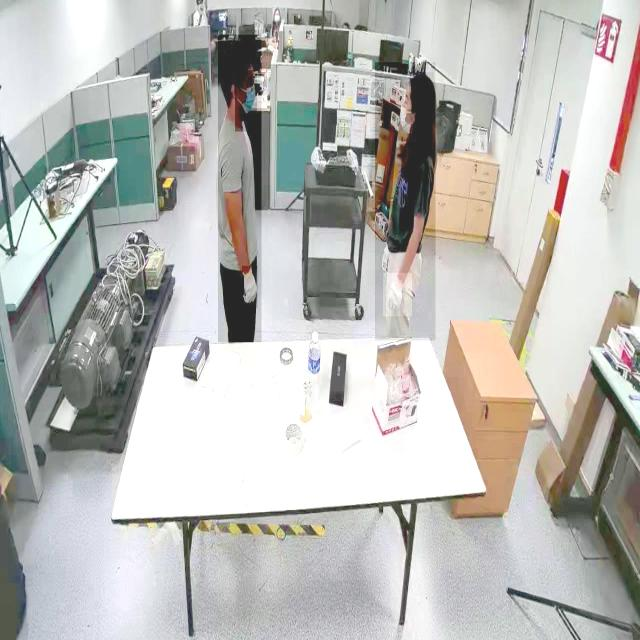face_mask: (235, 70, 257, 132), (394, 90, 414, 148), (272, 8, 280, 22), (196, 0, 202, 17)
hand_glove: (382, 273, 412, 317), (242, 266, 258, 309)
head_nohelmet: (220, 36, 261, 66), (408, 72, 434, 91), (275, 6, 281, 11)
person: (374, 62, 436, 342), (218, 35, 262, 343)
